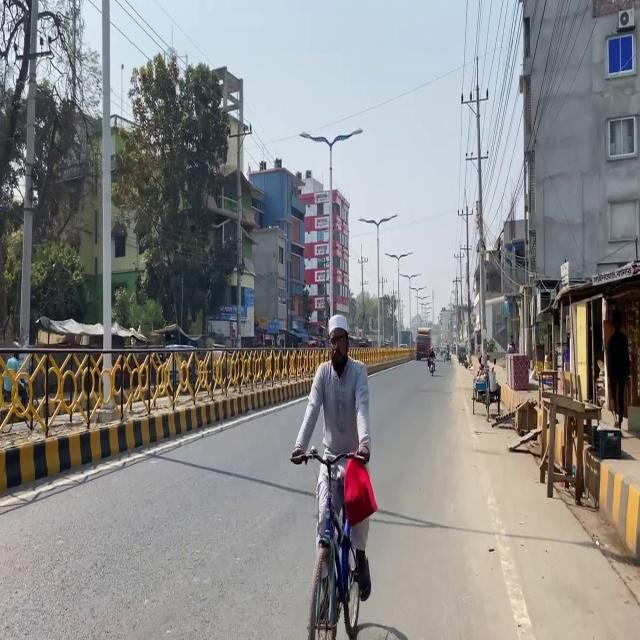Bench: (289, 445, 373, 638)
Downstairs: (592, 425, 622, 458)
Fallen-tree: (426, 357, 435, 375)
Garbage: (544, 392, 601, 504), (514, 399, 539, 436)
Garbage-bin: (290, 314, 372, 601), (605, 309, 631, 431)
Light-pole: (17, 0, 39, 360), (99, 0, 114, 404)
Motorcycle: (351, 621, 408, 639)
Pothole: (451, 352, 640, 640)
Traffic-cone: (415, 326, 432, 360)
